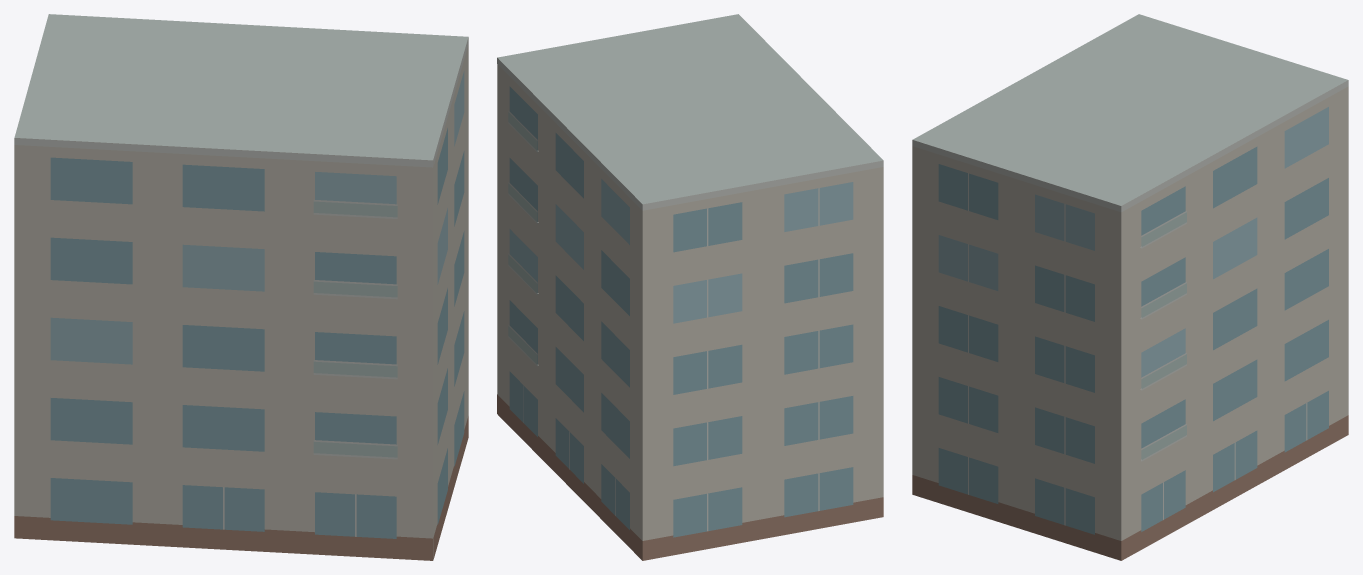
Rendered from survey-upis-32846921.glb.
3 renders of one model, left to right at view 1: azimuth 30°, elevation 25°; view 2: azimuth 150°, elevation 25°; view 3: azimuth 270°, elevation 25°, orthographic. The views are drawn at different scales.
Visible parts, largest first — view 1: survey-upis-32846921.tmp; view 2: survey-upis-32846921.tmp; view 3: survey-upis-32846921.tmp.
Boxes of the visible parts, x1,y1,x2,y2 form: survey-upis-32846921.tmp: (14,14,468,560); survey-upis-32846921.tmp: (497,14,883,560); survey-upis-32846921.tmp: (912,14,1348,560).
Size of the model in its own units: 15.91 by 13.7 by 15.27.
